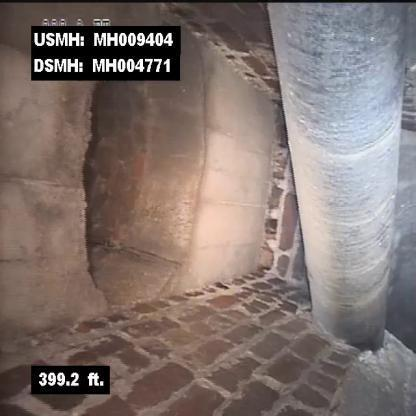Utility intrusion: (258, 0, 412, 357)
